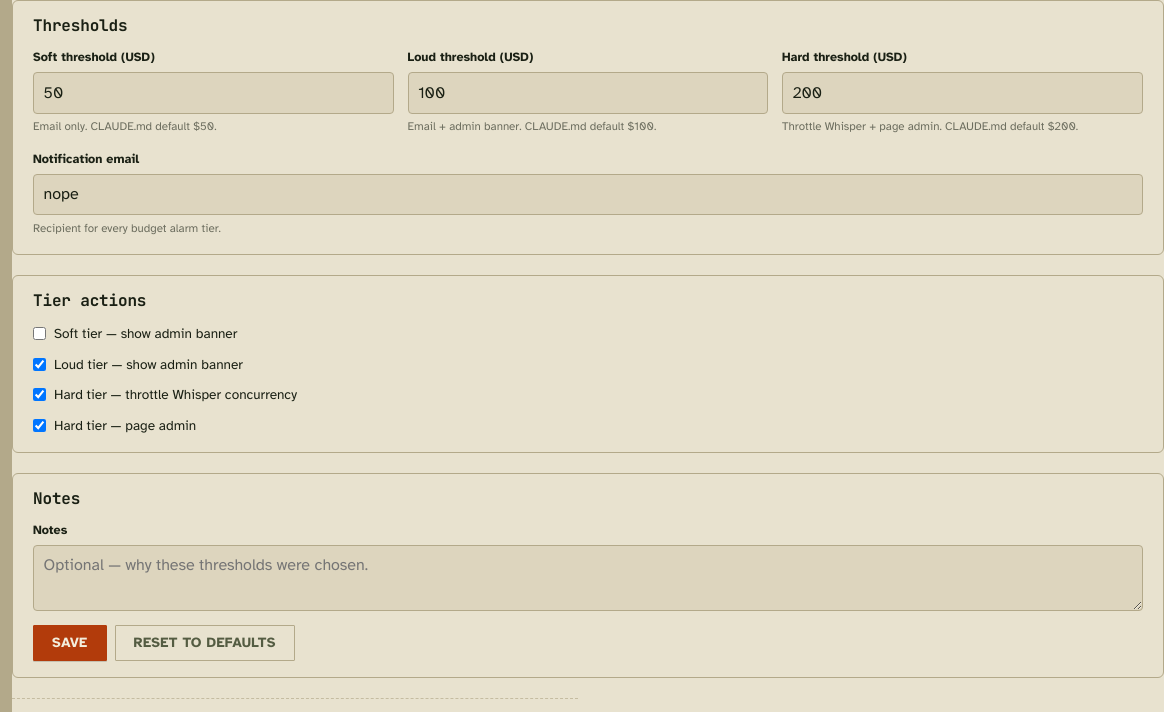
Scenario: BudgetConfigEditor › blocks save and shows a field error on an invalid email
Expected: the field labelled "Notification email" holds "nope", [33,174,1143,215]
Click the button "Save" at (70, 643), box [33,625,106,661]
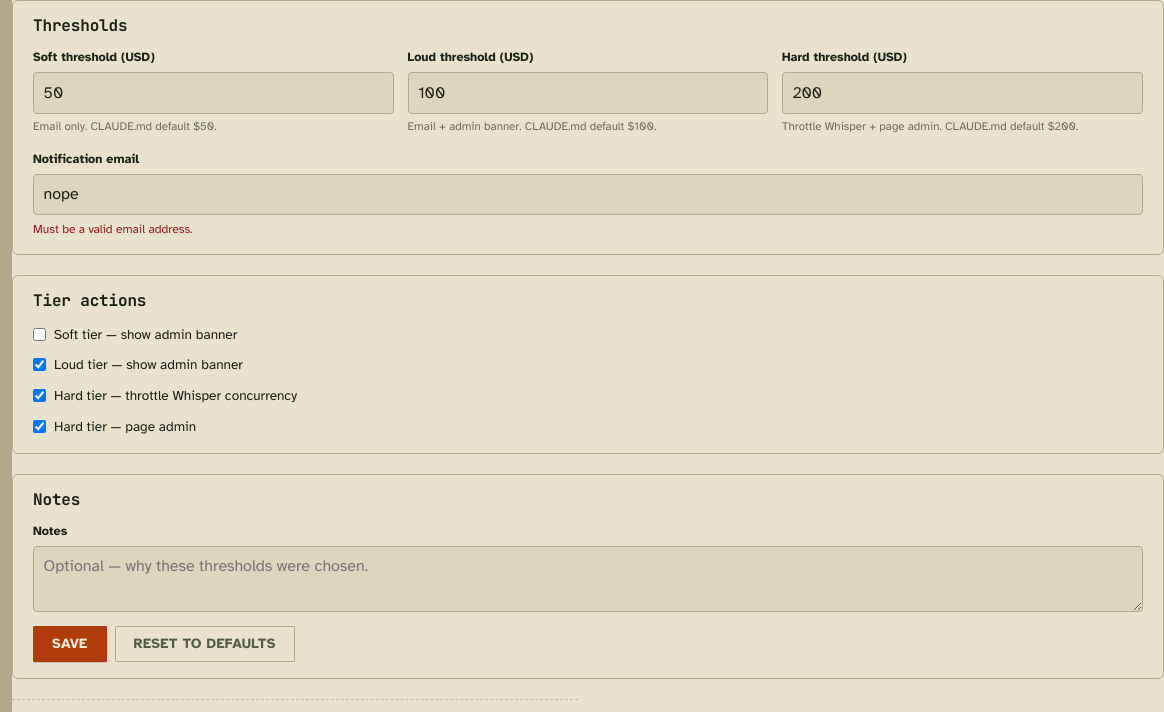
Expected: the text "Must be a valid email address." is shown, [33,222,192,236]
